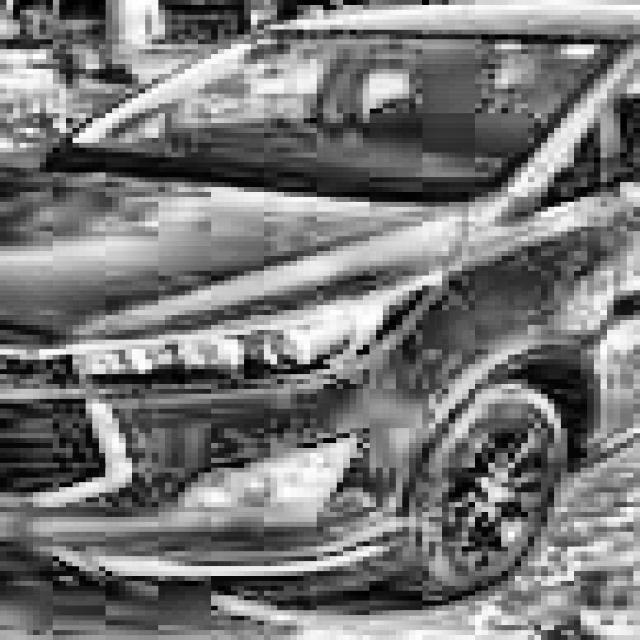light_vehicle: (0, 0, 640, 601)
